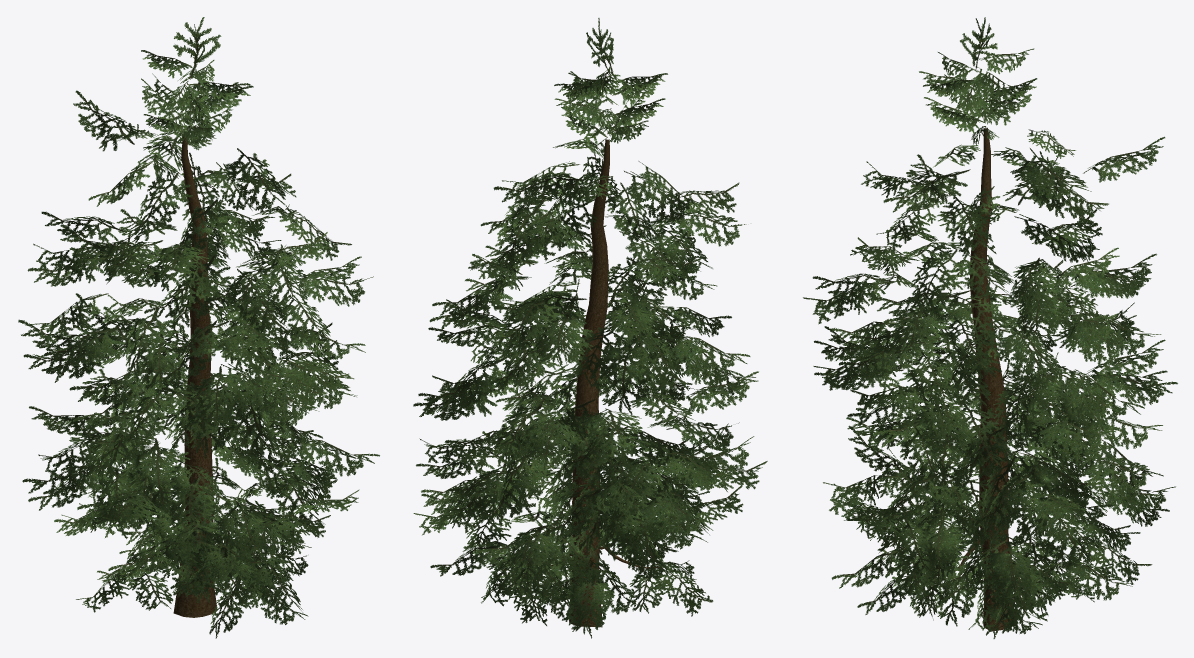
Rendered from baum_fichte_3_lod1.glb.
The picture shows the model from 3 angles, left to right: view 1: azimuth 30°, elevation 25°; view 2: azimuth 150°, elevation 25°; view 3: azimuth 270°, elevation 25°; orthographic projection.
Visible parts, largest first — view 1: Krone, Stamm; view 2: Krone, Stamm; view 3: Krone, Stamm.
Part boxes in pixels (<box>): Krone: <box>18,17,379,638</box>; Stamm: <box>140,136,240,617</box>; Krone: <box>413,18,767,638</box>; Stamm: <box>550,139,659,627</box>; Krone: <box>803,17,1177,638</box>; Stamm: <box>937,127,1013,631</box>.
Size of the model in its own units: 9.05 by 16.28 by 9.25.
Materials: 2 (2 with a texture image).
